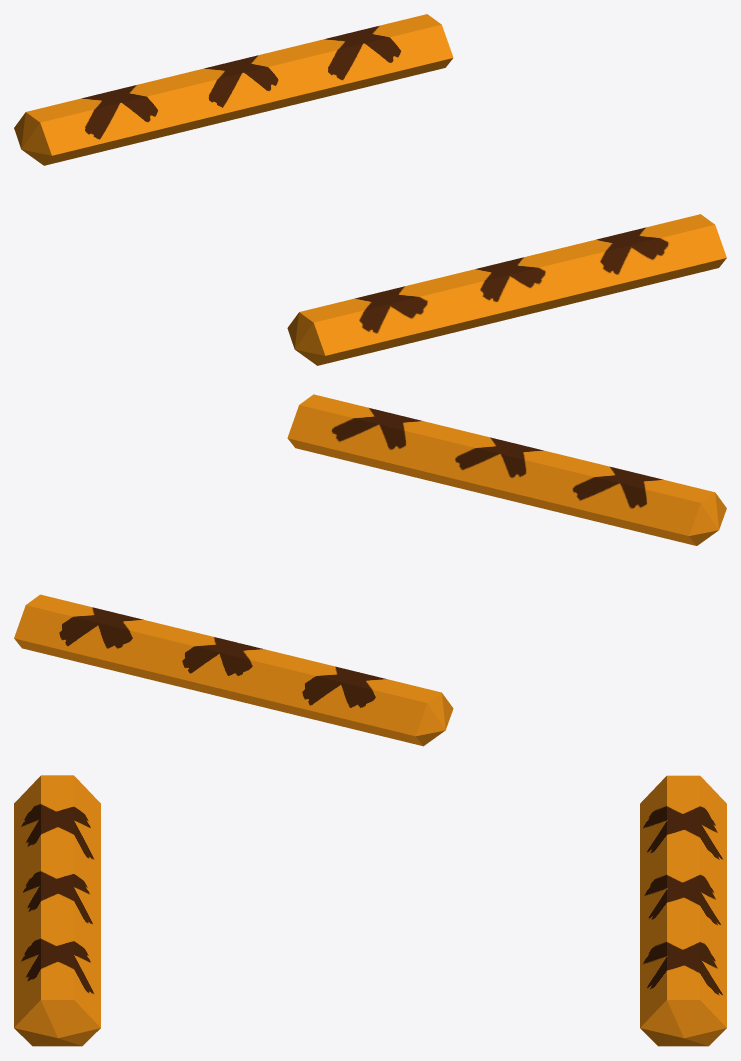
The model's file is yoots.glb.
3 renders of one model, top to bottom at view 1: azimuth 30°, elevation 25°; view 2: azimuth 150°, elevation 25°; view 3: azimuth 270°, elevation 25°, orthographic. The views are drawn at different scales.
Visible parts, largest first — view 1: Cylinder.007, Cylinder.011; view 2: Cylinder.011, Cylinder.007; view 3: Cylinder.007, Cylinder.011.
Boxes of the visible parts, x1=… form: Cylinder.007: x1=287, y1=214, x2=726, y2=365; Cylinder.011: x1=14, y1=14, x2=453, y2=165; Cylinder.011: x1=14, y1=594, x2=453, y2=746; Cylinder.007: x1=287, y1=394, x2=726, y2=545; Cylinder.007: x1=14, y1=775, x2=100, y2=1046; Cylinder.011: x1=640, y1=775, x2=726, y2=1046.
Bounding box in the file's own units: 10.36 × 0.9735 × 13.26.
2 materials, 2 textured.
